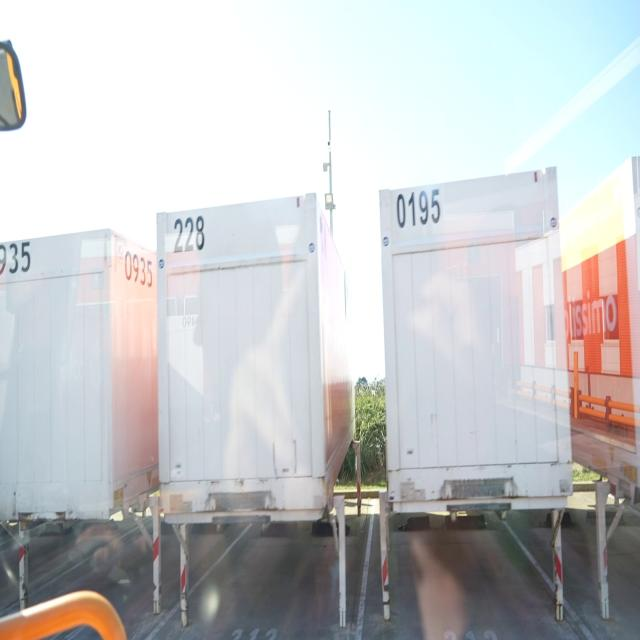Code: (393, 184, 442, 233), (168, 214, 209, 256), (122, 246, 154, 288)
